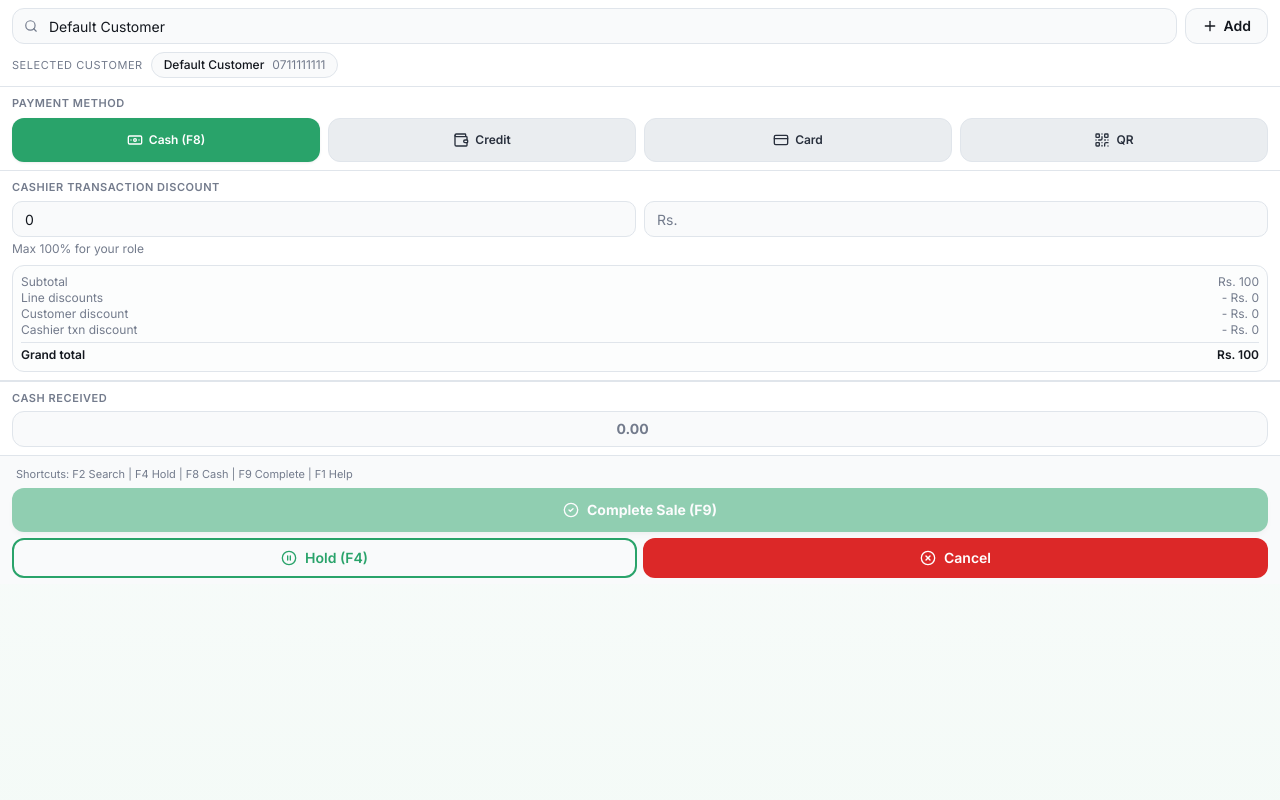
Test case: CheckoutPanel shortcut integration › blocks credit sales when only the default customer is selected
The image size is (1280, 800).
Check: the text "0711111111" is shown, box [272,57,326,73]
Click the button "Credit": click(482, 140) [328,118,636,162]
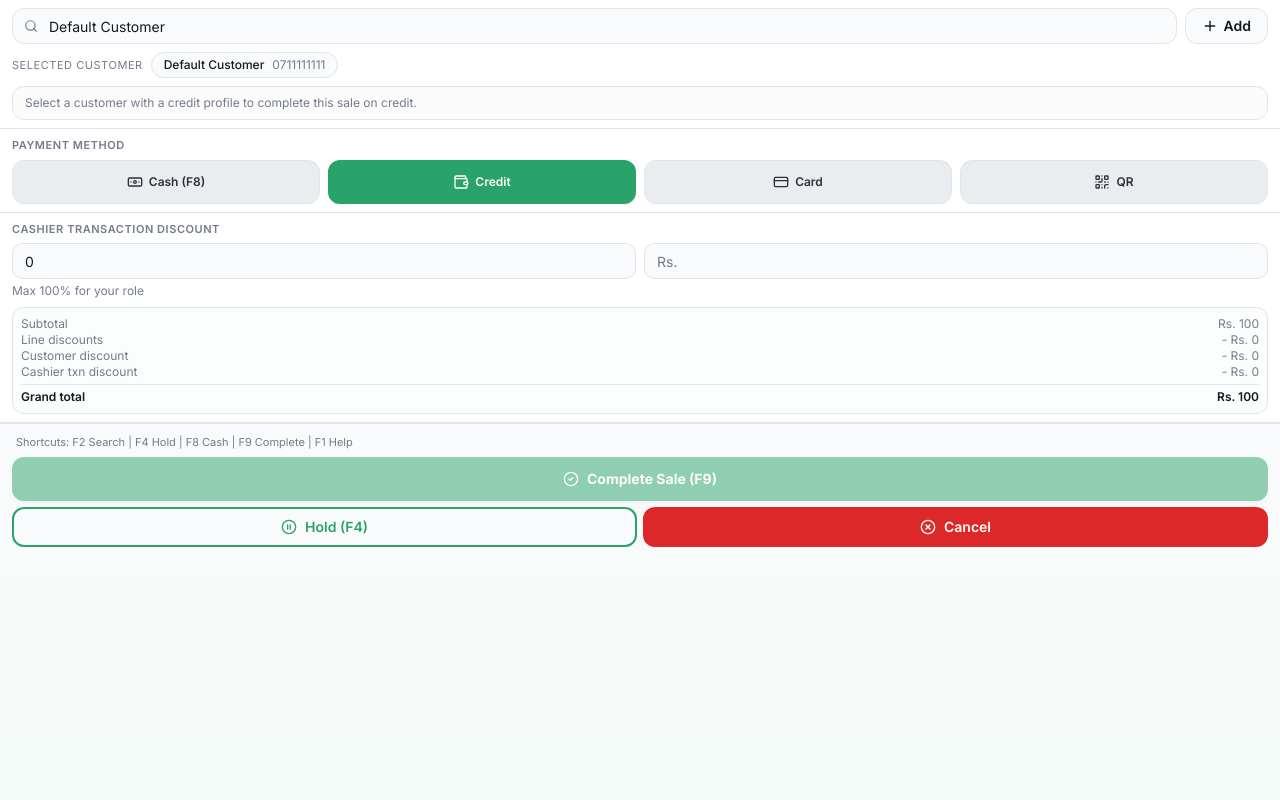
Check: the text "Select a customer with a credit profile to complete this sale on credit." is shown, box [25,95,417,110]
